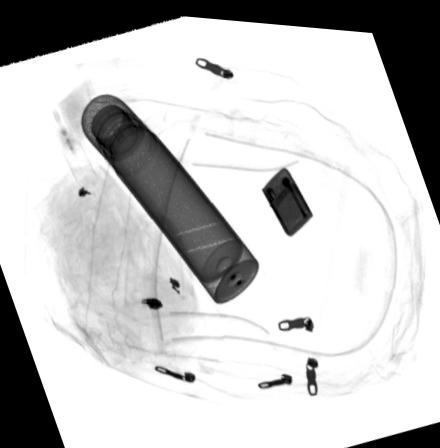Lighter: (260, 161, 314, 232)
